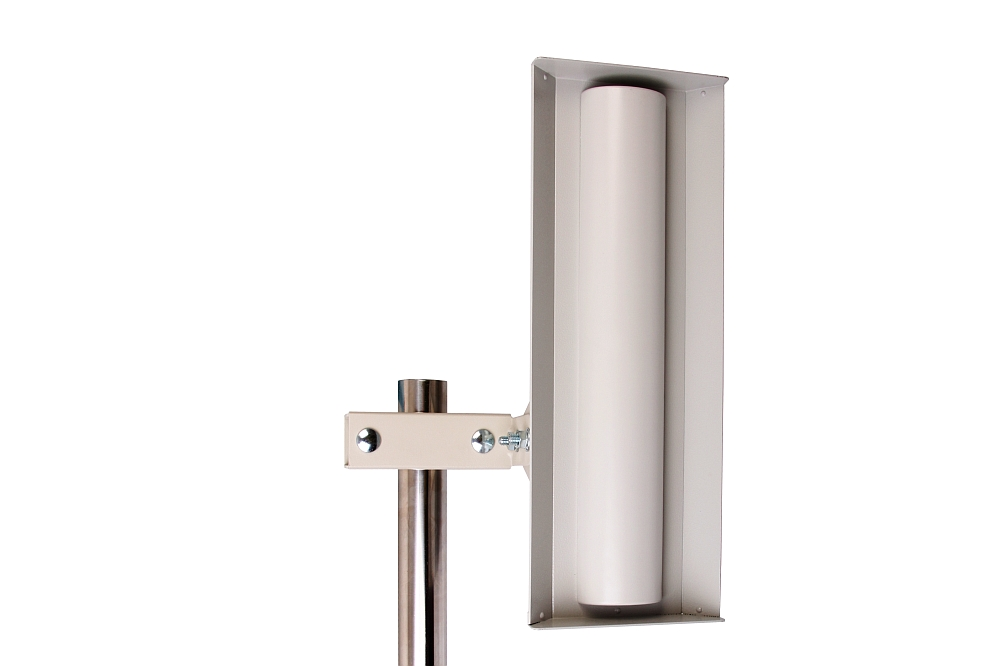sa: (514, 29, 743, 652)
